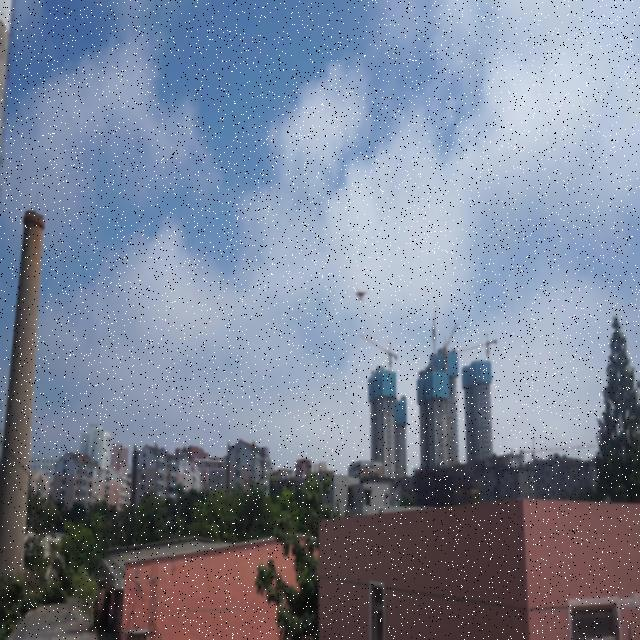UAV: (354, 287, 369, 301)
